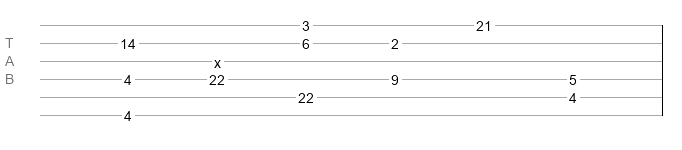14: (120, 36, 136, 46)
2: (391, 36, 399, 46)
21: (476, 18, 492, 28)
22: (209, 72, 225, 82), (298, 90, 314, 100)
3: (302, 18, 310, 28)
4: (124, 72, 132, 82), (124, 108, 132, 118), (569, 90, 577, 100)
5: (569, 72, 577, 82)
6: (302, 36, 310, 46)
9: (391, 72, 399, 82)
x: (214, 55, 221, 63)
